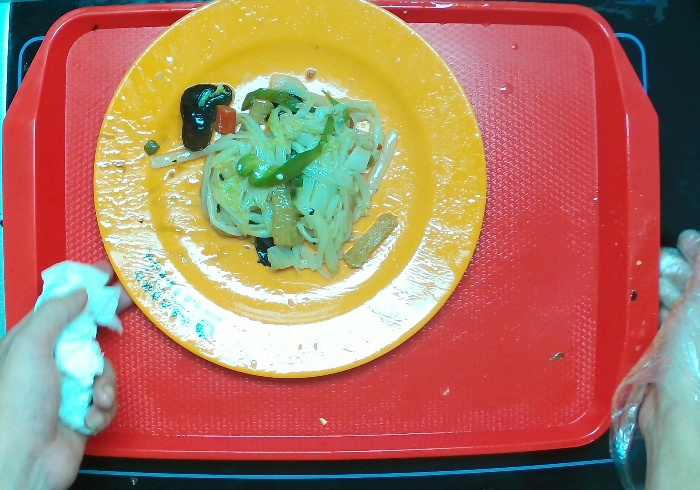YKMZ-Ju_Se_Mian_Pan: (73, 1, 490, 389)
